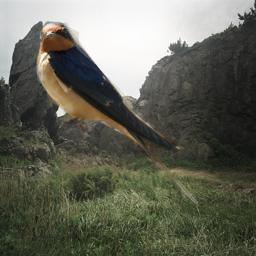Swallow: (35, 21, 200, 206)
